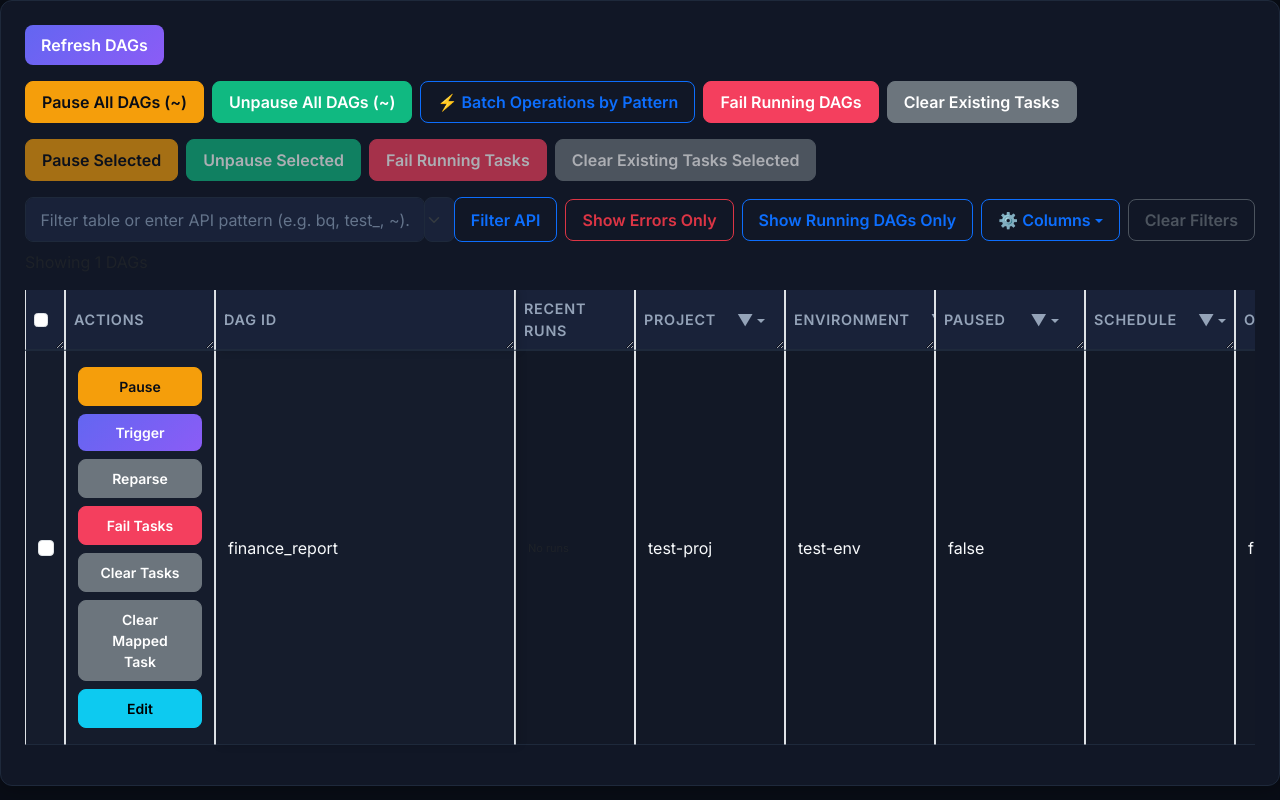
Scenario: EndpointView Component › filters DAG table via Airflow REST API pattern parameter
In the field named "Filter table or API pattern input": (225, 220) [25,197,425,242], type "%finance%"
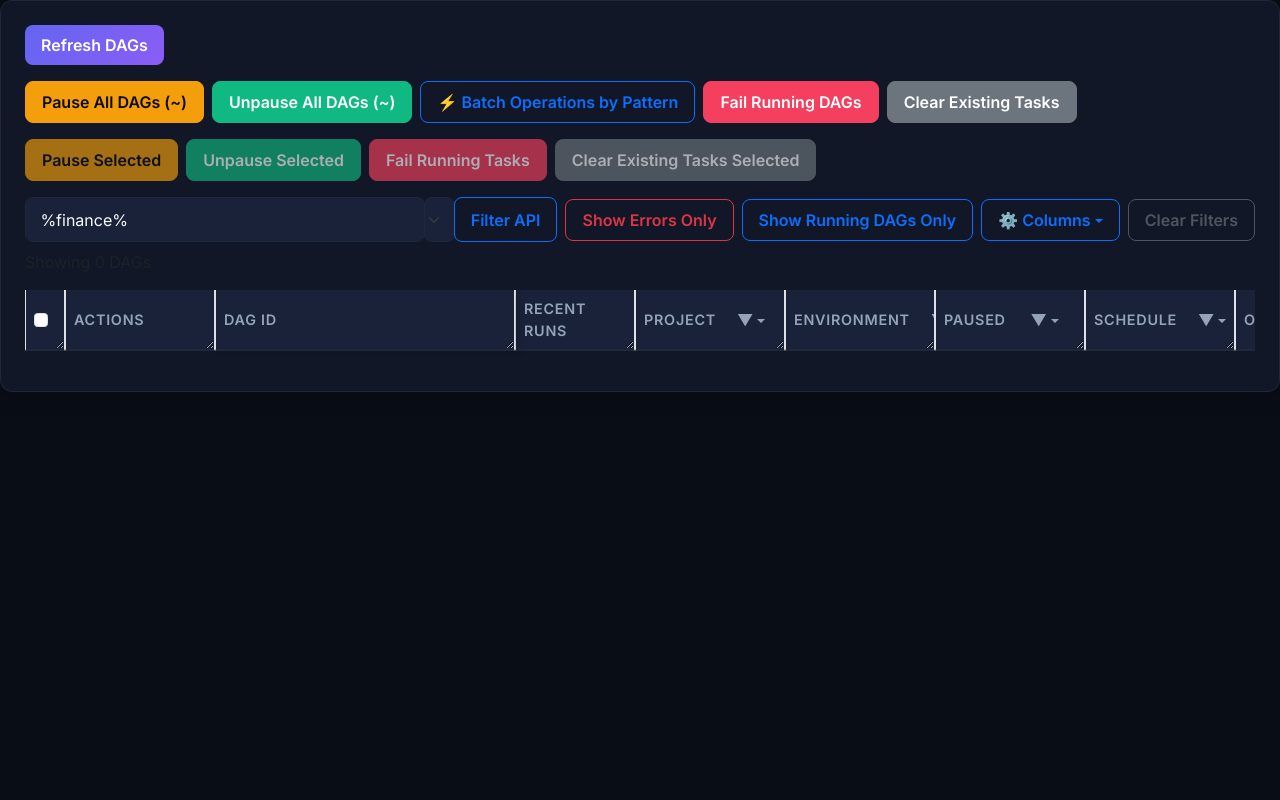
Click the button "Filter API": (506, 220) [454,197,558,242]
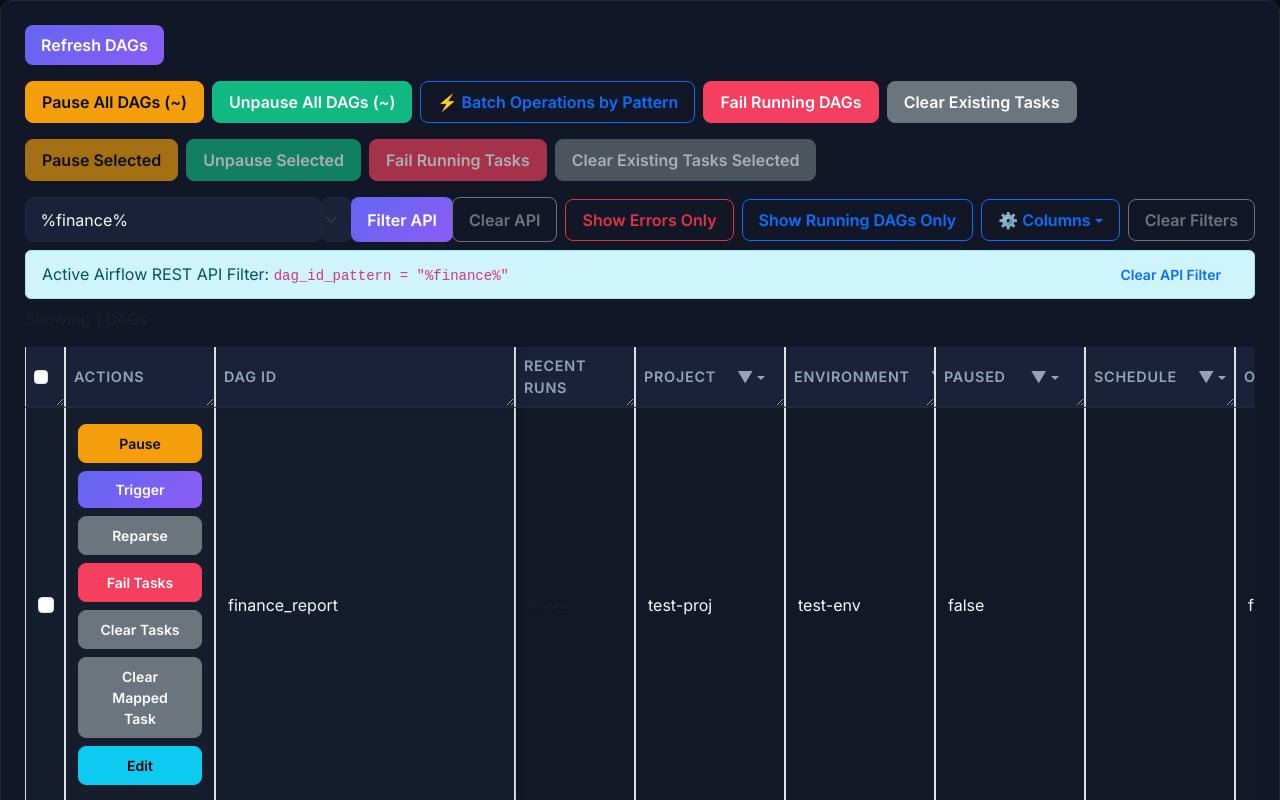
Expected: the text "Active Airflow REST API Filter: dag_id_pattern = \"%finance%\"" is shown, [42,262,509,287]
